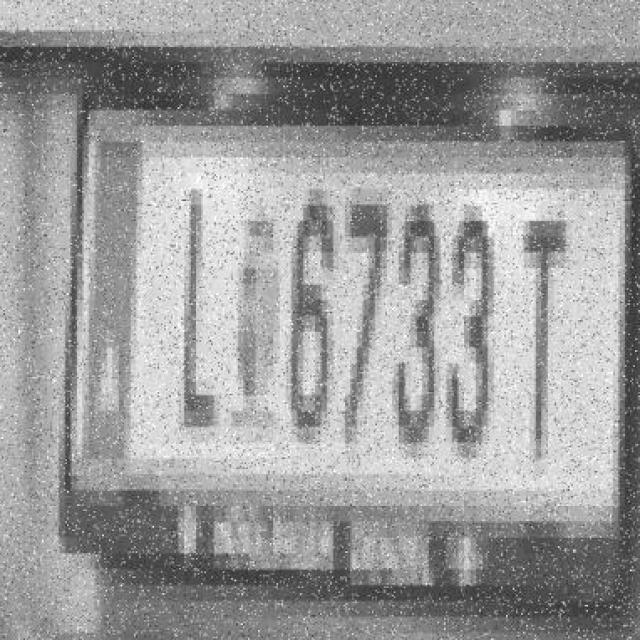licenseplate: (52, 17, 640, 612)
